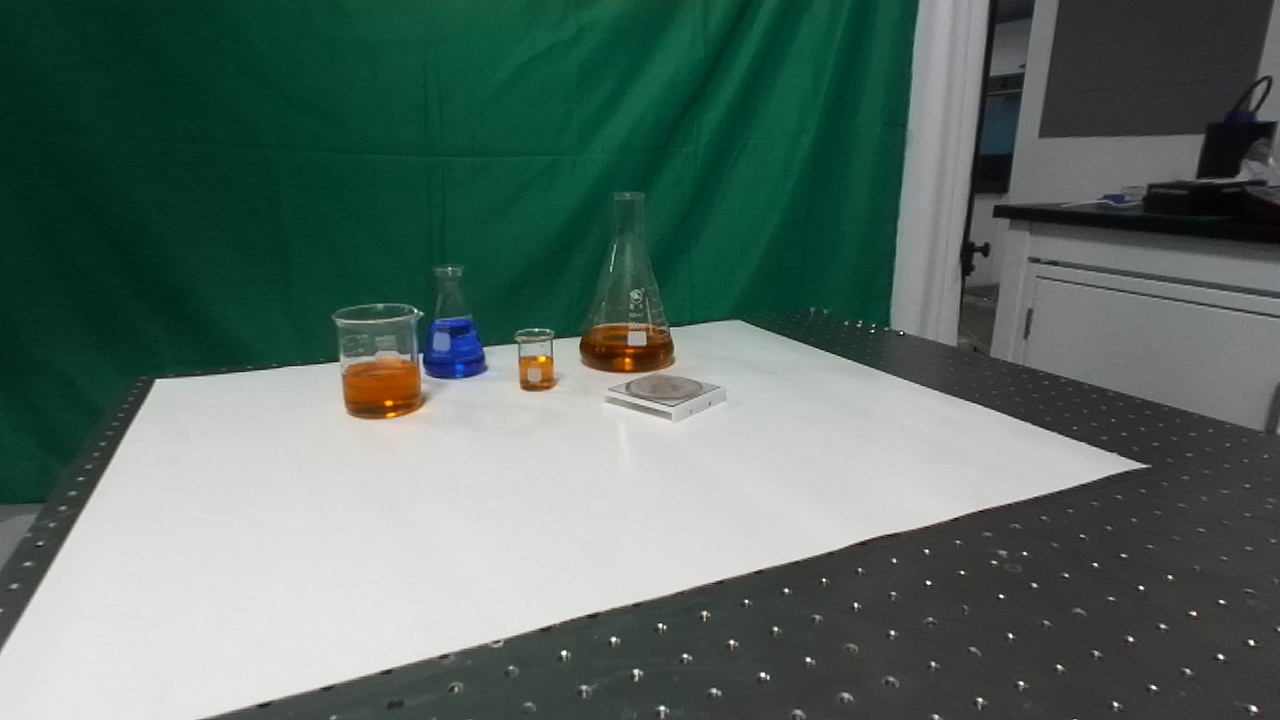glass: (576, 186, 677, 377), (329, 299, 427, 425), (420, 260, 492, 381), (513, 325, 558, 396)
plate: (600, 367, 731, 423)
